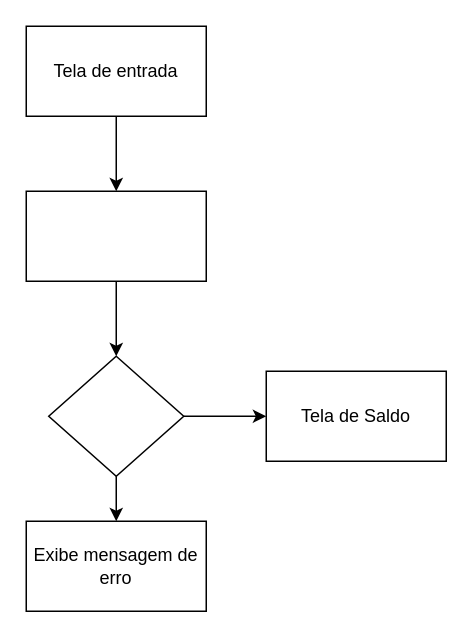
Some shapes in this 473 by 638 pixel diagram are drawn without their labels. Here are the shapes that lost their labels. From the top down, the centre of each, then its label:
At [115,235]: "login".
At [115,415]: "Fez login".
